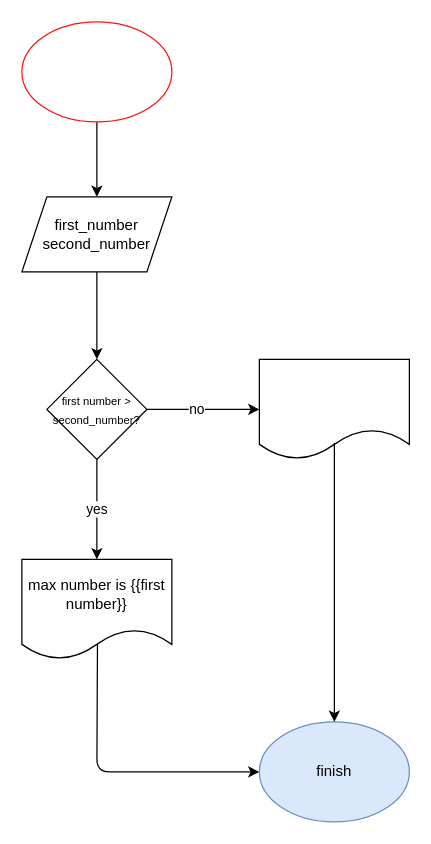
Image size: 431x844. Some labels were removed from this diagram. Each missing label, with the centre of its shape:
max number is {{second_number}}: the point at 333,408
start: the point at 96,71
